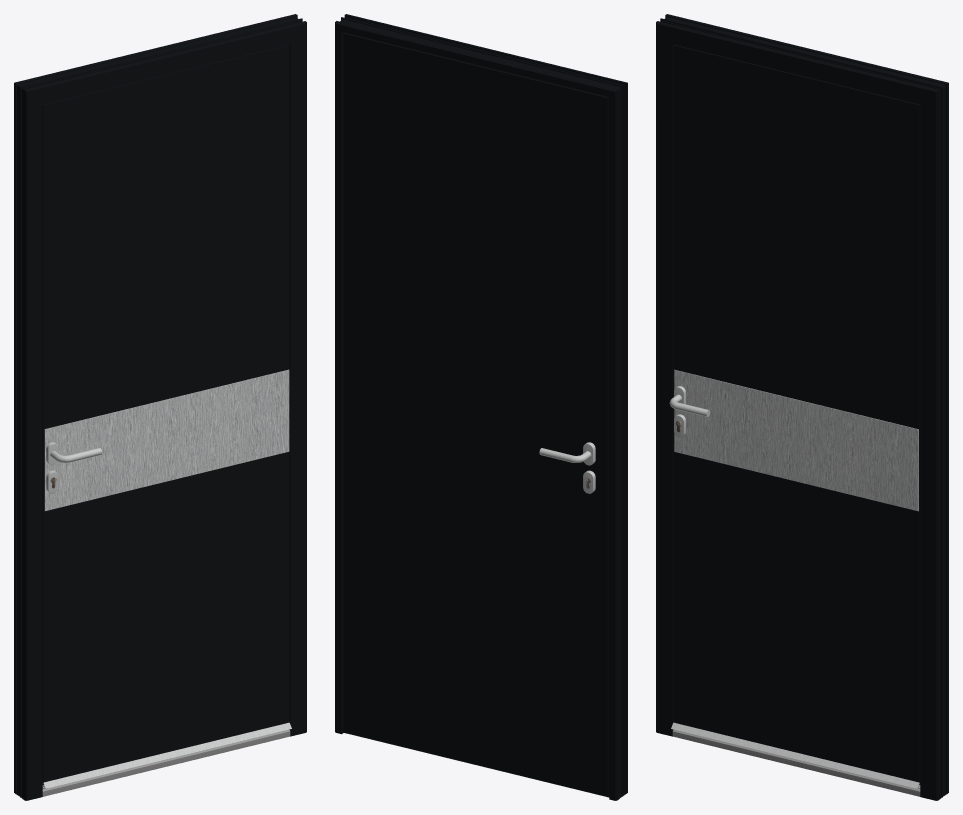
3 views of the same model, side by side, from view 1: azimuth 30°, elevation 25°; view 2: azimuth 150°, elevation 25°; view 3: azimuth 330°, elevation 25° (orthographic).
Visible parts, largest first — view 1: monobloco, aroFixo, alunox_48, aroMovel, rodapé, escovas, puxador; view 2: monobloco, aroFixo, aroMovel, puxador; view 3: monobloco, aroFixo, alunox_48, aroMovel, rodapé, escovas, puxador.
Part boxes in pixels (x1,y1,x2,y2): monobloco: (44,46,288,782); aroFixo: (14,14,306,800); alunox_48: (44,369,289,510); aroMovel: (42,44,289,784); rodapé: (42,729,290,796); escovas: (42,722,291,788); puxador: (46,442,102,493); monobloco: (344,34,607,796); aroFixo: (335,14,627,800); aroMovel: (343,32,609,796); puxador: (539,442,595,493); monobloco: (674,46,918,782); aroFixo: (656,14,948,800); alunox_48: (674,369,918,511); aroMovel: (673,44,920,784); rodapé: (672,729,920,796); escovas: (671,722,920,788); puxador: (669,386,710,437).
Bounding box in the file's own units: 900 × 2165 × 210.
Materials: 6 (2 with a texture image).
